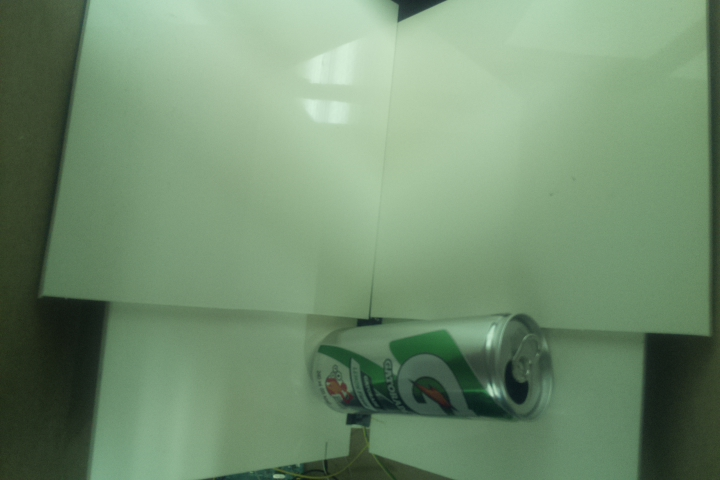can: (308, 310, 557, 426)
